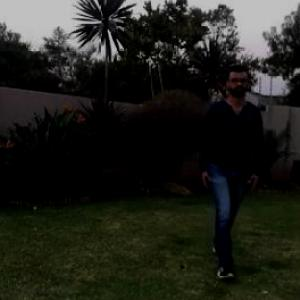follow: (201, 68, 252, 248)
